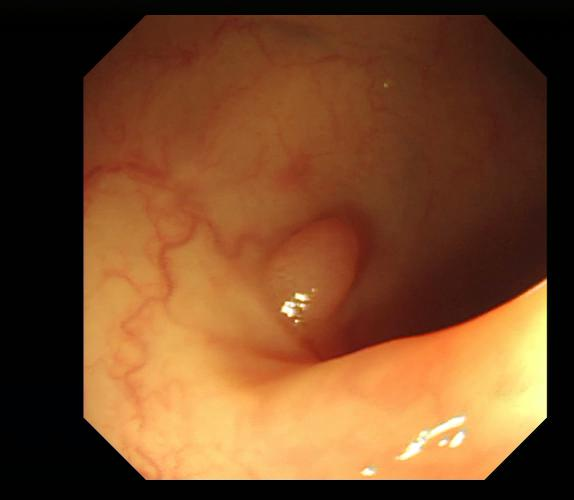polyp: (265, 215, 361, 323)
